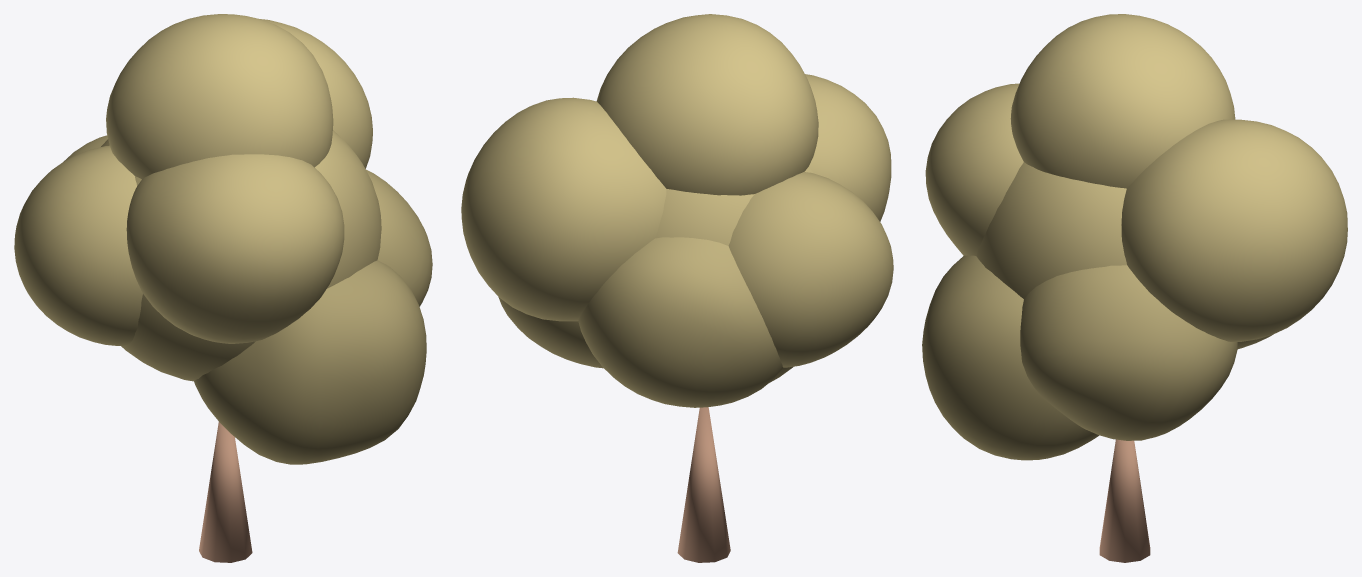
Rendered from tree_b_autumn.glb.
3 views of the same model, side by side, from view 1: azimuth 30°, elevation 25°; view 2: azimuth 150°, elevation 25°; view 3: azimuth 270°, elevation 25° (orthographic).
Parts seen in each view (by area): view 1: crown, trunk; view 2: crown, trunk; view 3: crown, trunk.
Boxes of the visible parts, <box> form: crown: <box>14,14,432,464</box>; trunk: <box>199,421,252,562</box>; crown: <box>461,14,893,407</box>; trunk: <box>677,407,730,562</box>; crown: <box>922,14,1347,460</box>; trunk: <box>1099,439,1150,562</box>.
Bounding box in the file's own units: 5.88 × 7.87 × 5.79.
